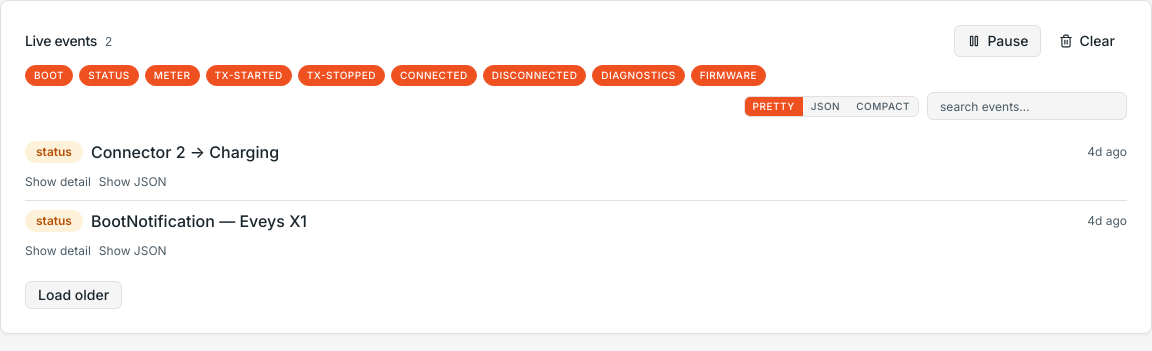
Test: DeviceEventsPanel — kind filter + search › search box filters by substring on summary
The image size is (1152, 351).
In the field with test id "device-events-search": (1027, 106) [927,92,1127,120], type "Charging"
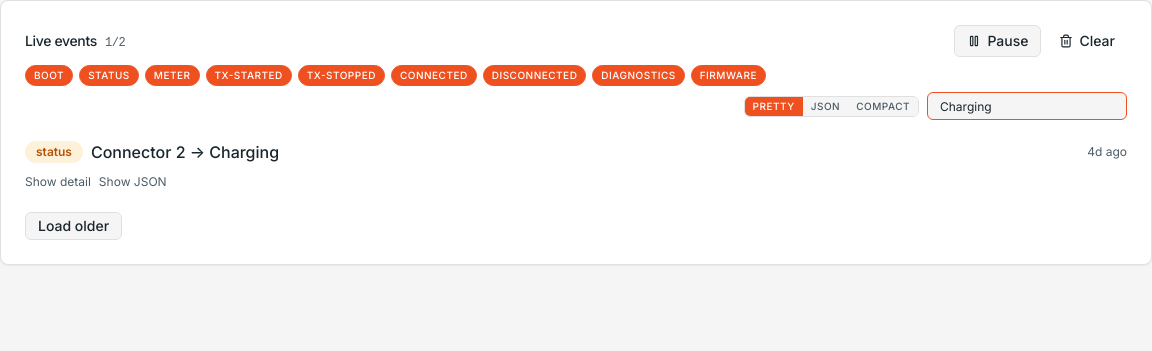
Expected: the text "Connector 2 → Charging" is shown, [91,140,279,164]
Expected: the text "BootNotification — Eveys X1" is gone
